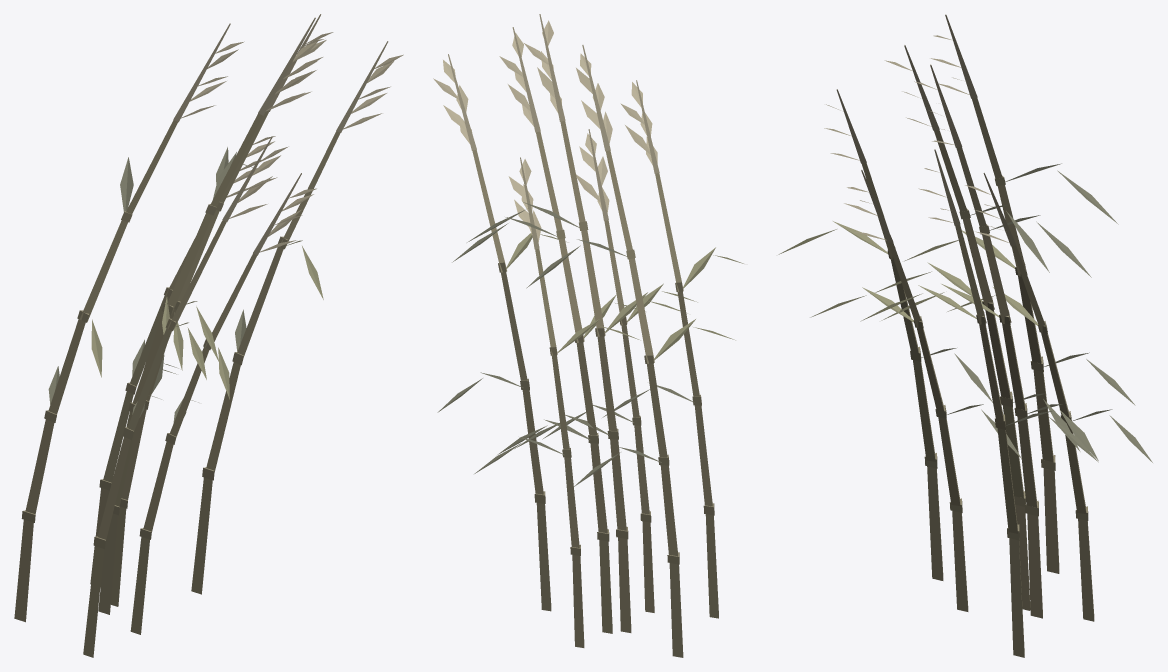
Rendered from shui.luweicong@subadult__winter.glb.
3 renders of one model, left to right at view 1: azimuth 30°, elevation 25°; view 2: azimuth 150°, elevation 25°; view 3: azimuth 270°, elevation 25°, orthographic. The views are drawn at different scales.
Parts seen in each view (by area): view 1: shui.luweicong@subadult__winter; view 2: shui.luweicong@subadult__winter; view 3: shui.luweicong@subadult__winter.
Part boxes in pixels (x1=…): shui.luweicong@subadult__winter: x1=14, y1=14, x2=403, y2=657; shui.luweicong@subadult__winter: x1=433, y1=14, x2=743, y2=657; shui.luweicong@subadult__winter: x1=778, y1=14, x2=1152, y2=657.
Size of the model in its own units: 1.1 by 1.92 by 1.02.
